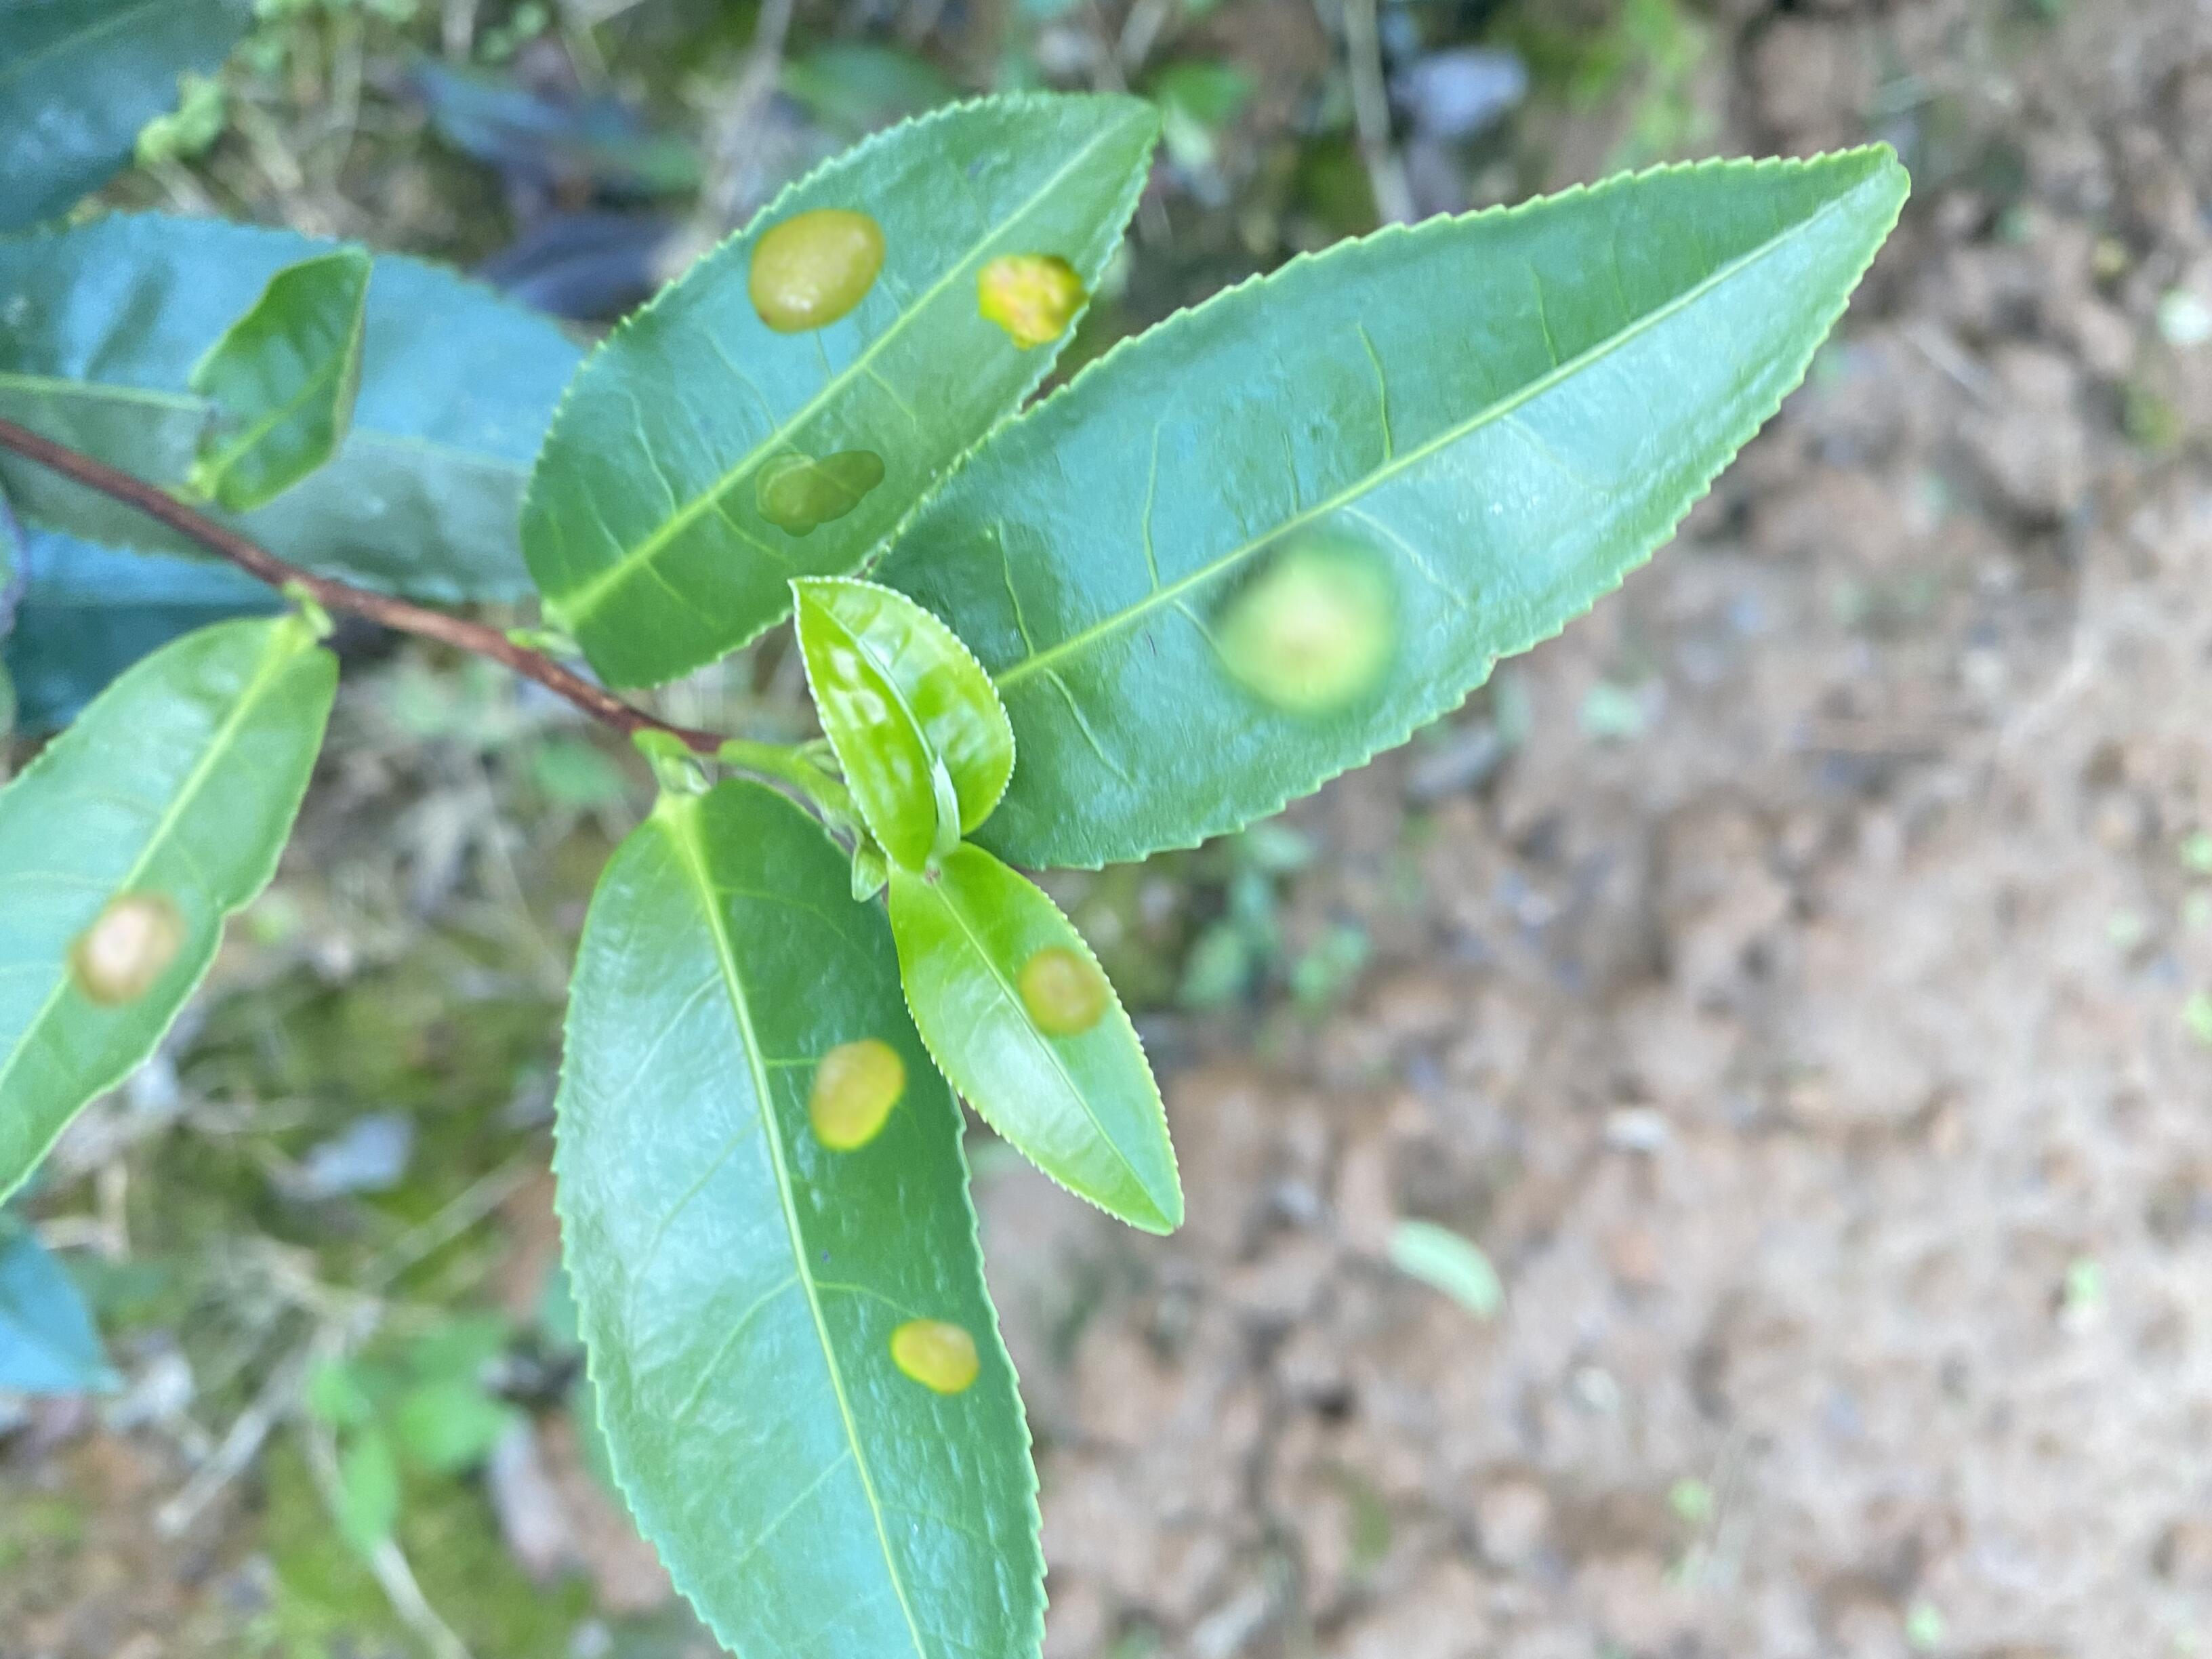chabing_high: (556, 784, 1049, 1659), (523, 89, 1160, 694)
chabing_low: (867, 143, 1916, 880), (3, 605, 338, 1209), (890, 847, 1186, 1232)
healthy: (786, 573, 1015, 870)
